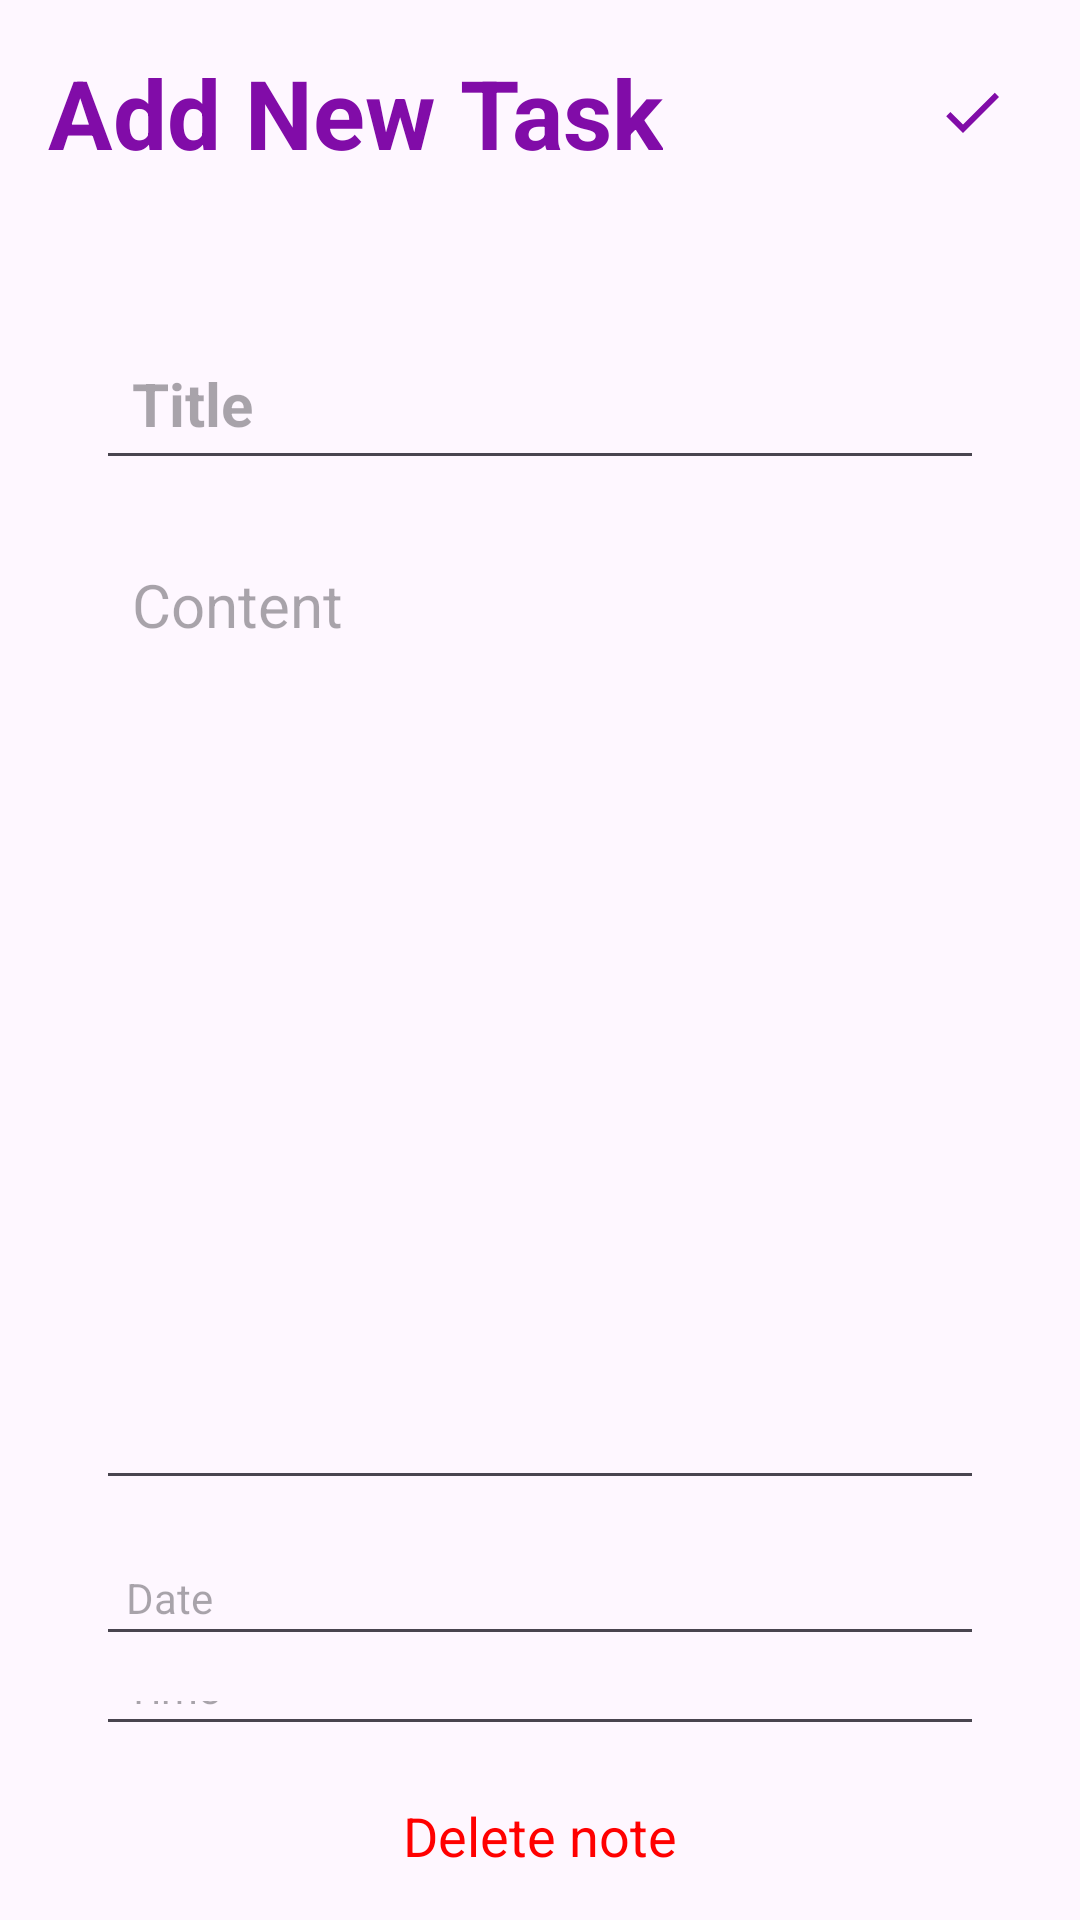

Locate icon controls on the screen. Image size 1080 x 1920, boxes as (x1, y1, x2, y2).
done: (946, 93, 999, 133)
